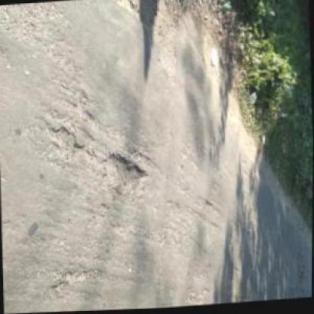Hueco: (103, 149, 148, 195), (49, 123, 82, 163)
